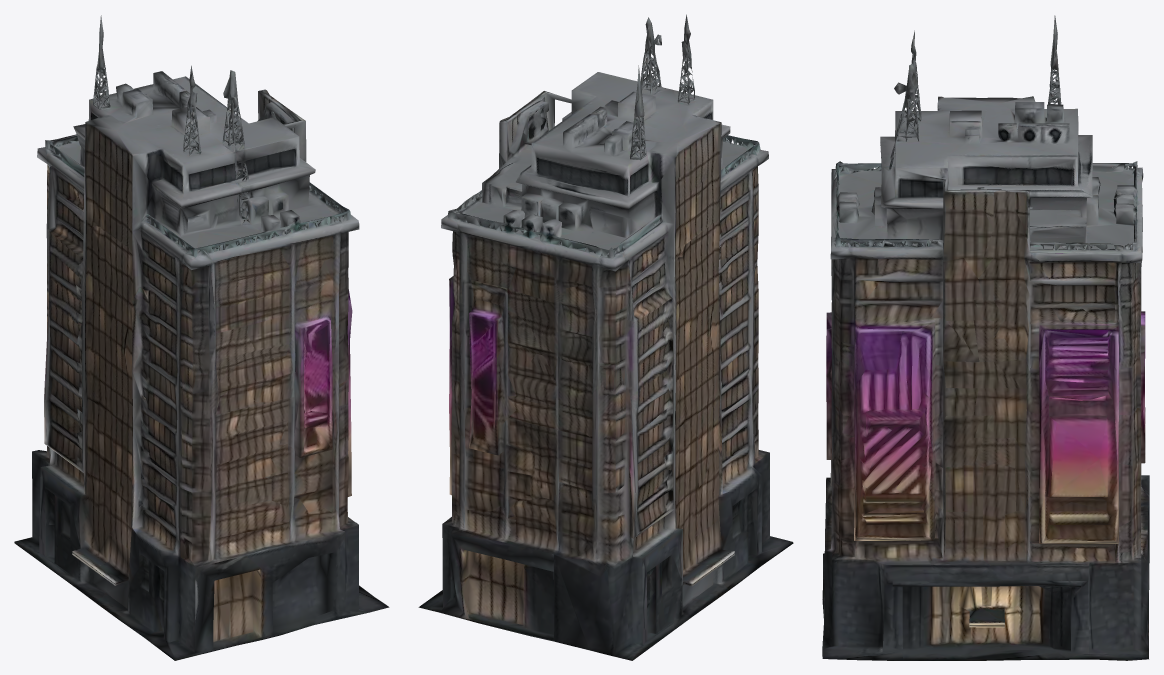
File: au_sky_shinjuku_neon.glb
3 renders of one model, left to right at view 1: azimuth 30°, elevation 25°; view 2: azimuth 150°, elevation 25°; view 3: azimuth 270°, elevation 25°, orthographic.
Parts seen in each view (by area): view 1: tripo_node_bbbe85ae-ccc2-4ab2-b569-76f734292237; view 2: tripo_node_bbbe85ae-ccc2-4ab2-b569-76f734292237; view 3: tripo_node_bbbe85ae-ccc2-4ab2-b569-76f734292237.
Boxes of the visible parts, box(x1,y1,x2,y2) form: tripo_node_bbbe85ae-ccc2-4ab2-b569-76f734292237: box(14, 15, 389, 660); tripo_node_bbbe85ae-ccc2-4ab2-b569-76f734292237: box(418, 14, 793, 660); tripo_node_bbbe85ae-ccc2-4ab2-b569-76f734292237: box(822, 15, 1149, 660).
Size of the model in its own units: 0.3963 by 0.9705 by 0.5131.
1 material, 1 textured.
